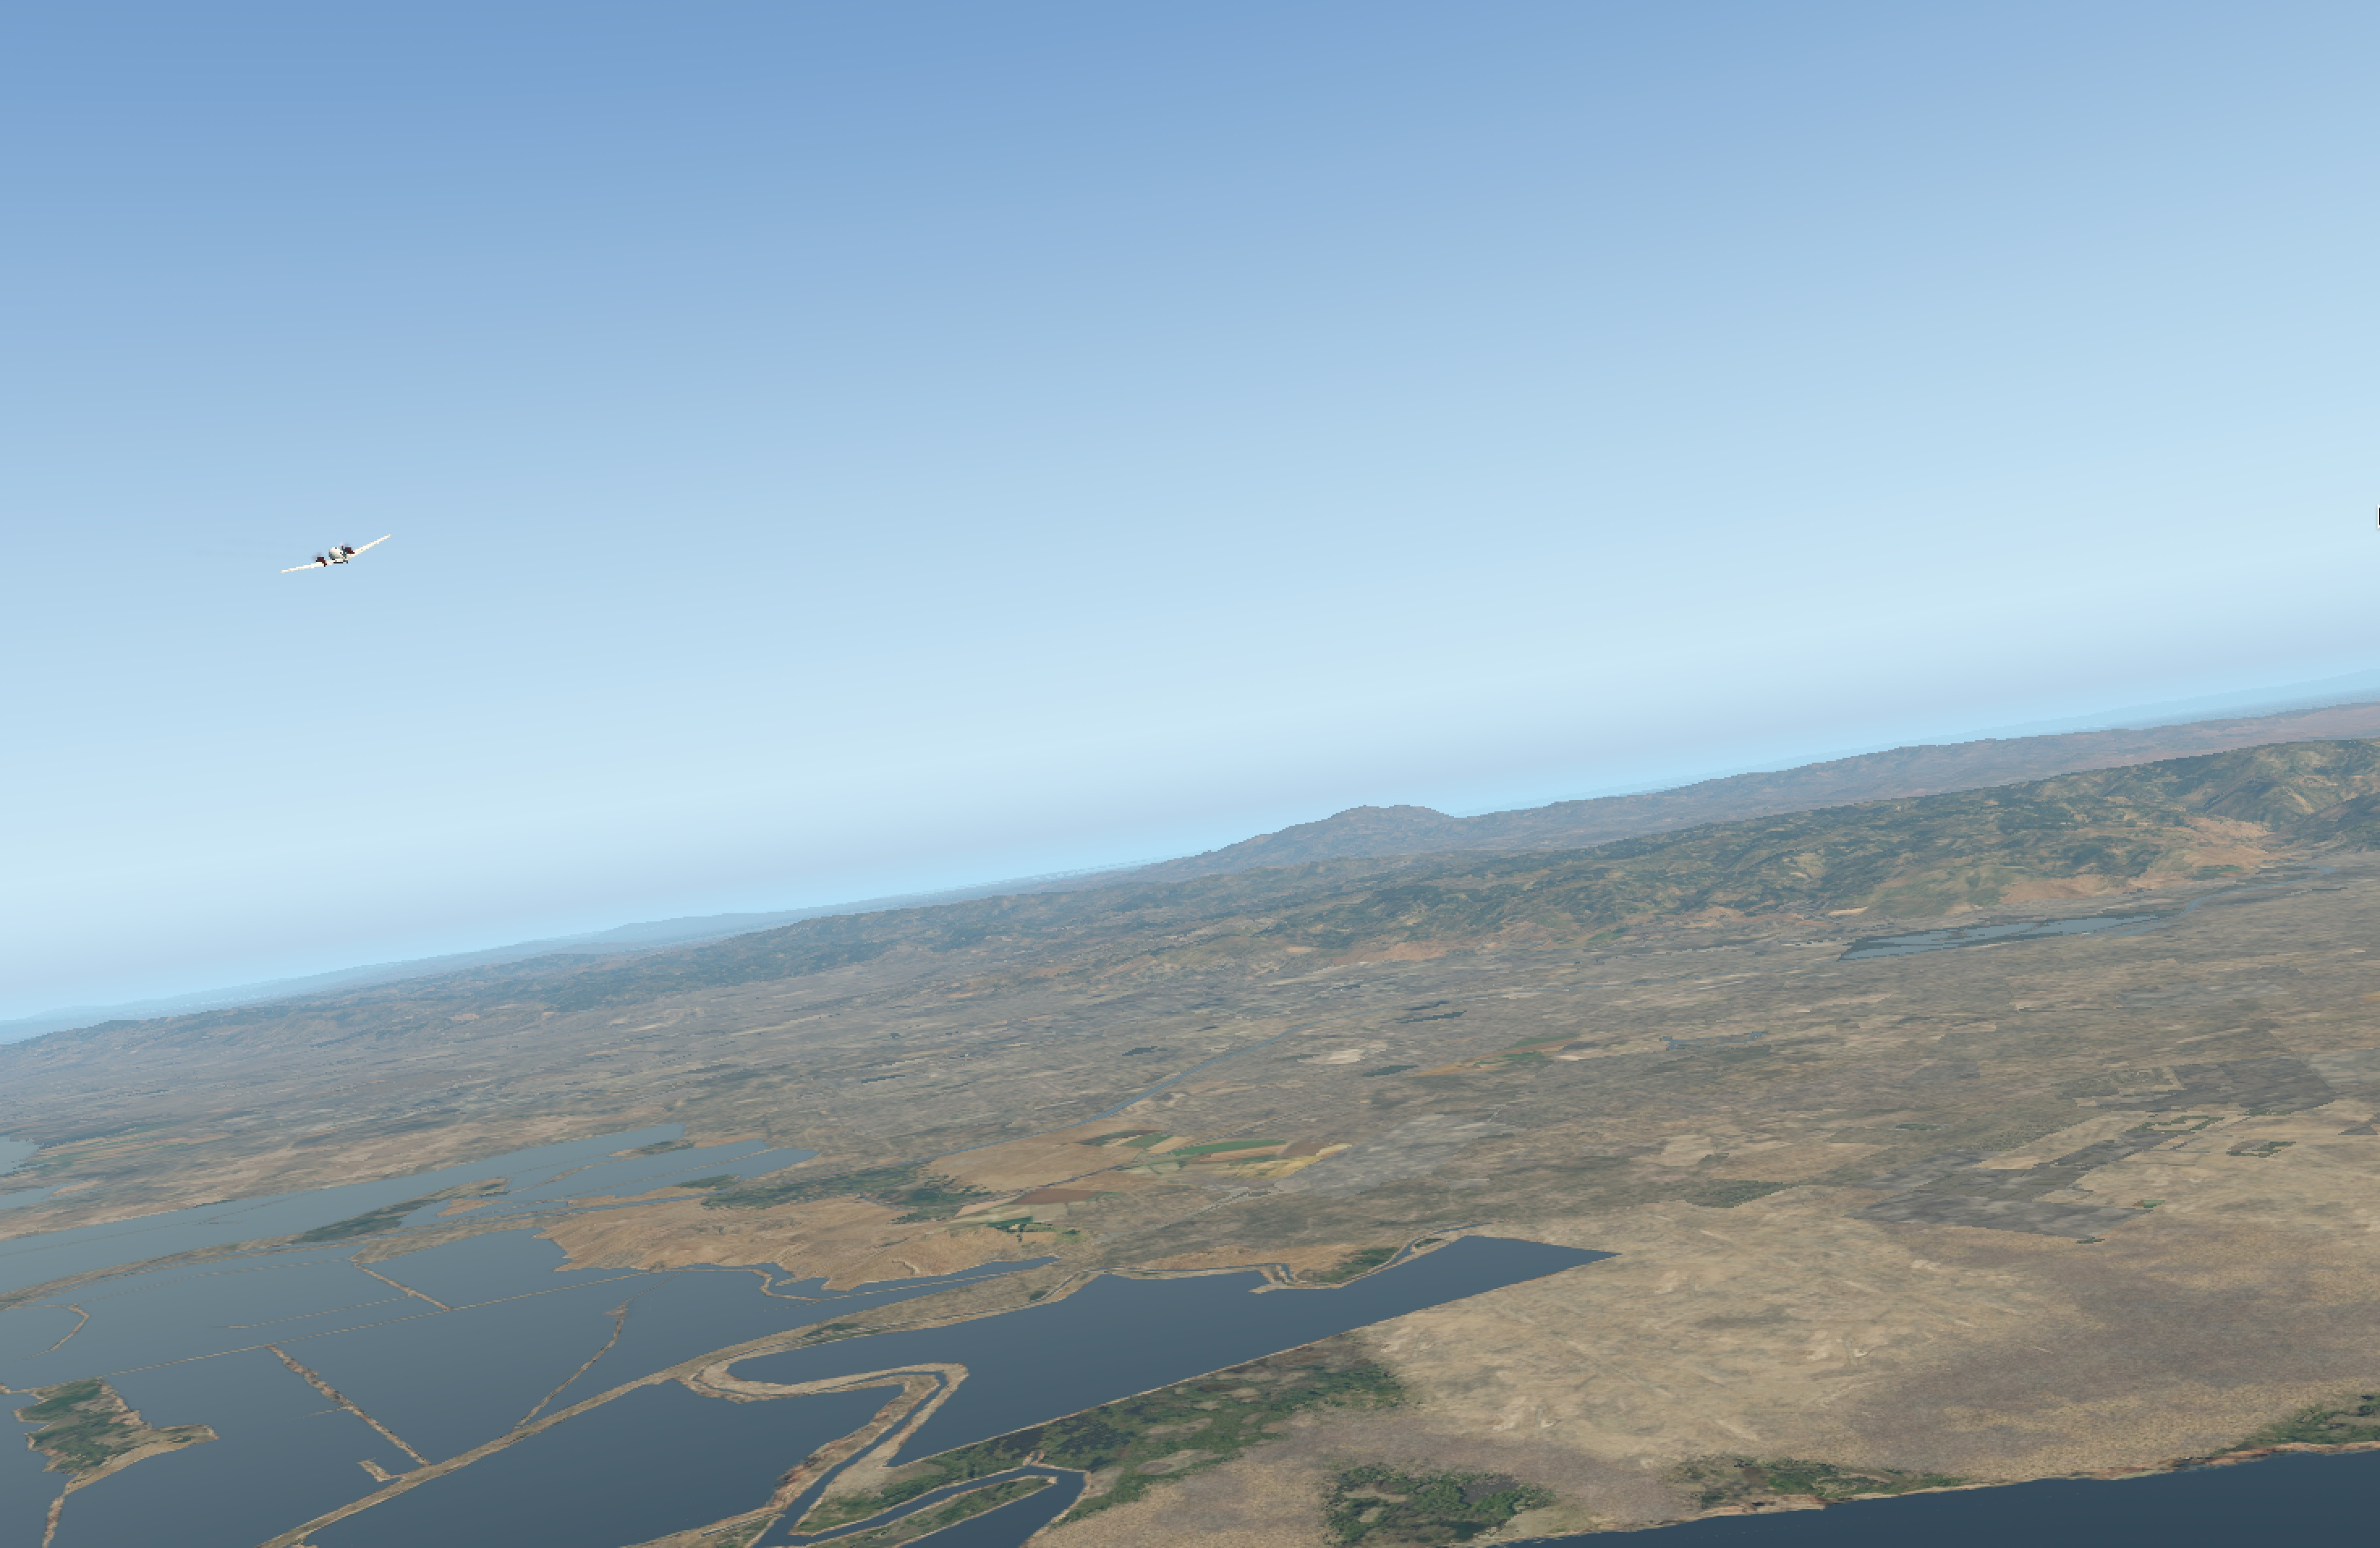aircraft: (286, 540, 390, 580)
